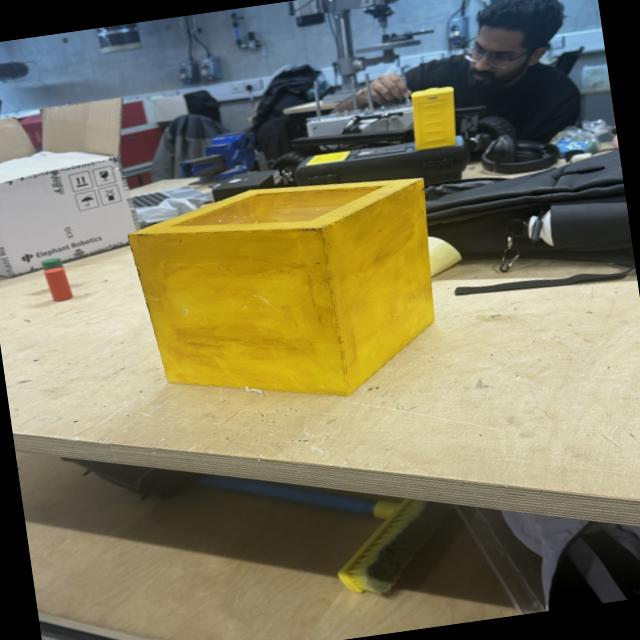yellow_bin: (123, 165, 452, 425)
